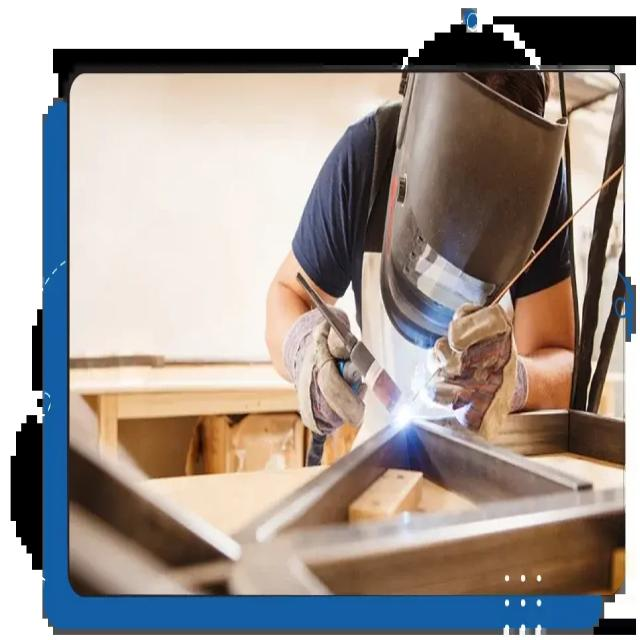welding: (392, 397, 411, 430)
